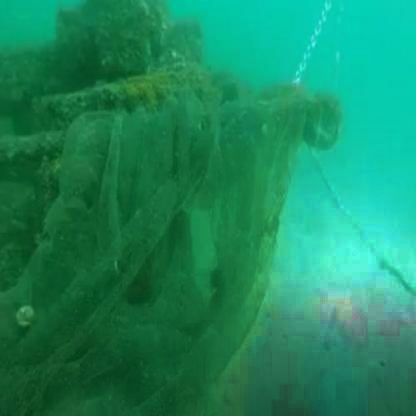plastic: (51, 77, 339, 380)
